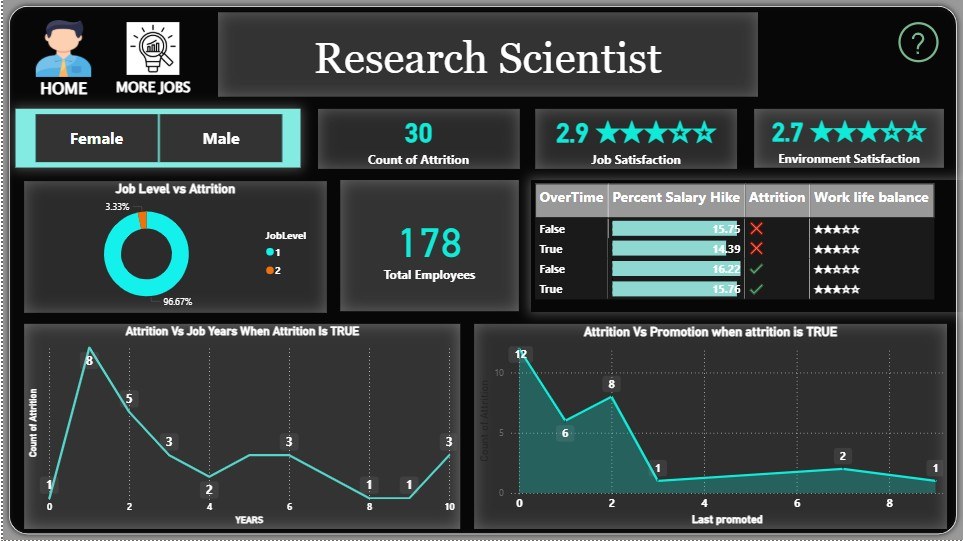

The page's visual inventory and layout, read from the dashboard file:
{"tool":"powerbi","page":{"name":"Drill Through","canvas":[1280,720],"ordinal":1},"visuals":[{"type":"shape","box":[0,0,1279.7,720.4],"z":0},{"type":"group","id":"g1","title":"Group 1","box":[15.6,0,1264,720],"z":1000},{"type":"card","fields":{"Values":["Min(HR_EMPLOYEE (2).JobRole)"]},"box":[287.6,16,720,112],"z":1000,"group":"g1"},{"type":"card","title":"star card e","fields":{"Values":["CountNonNull(HR_EMPLOYEE (2).Attrition)"]},"box":[420.1,145.2,268.5,79.6],"z":2000},{"type":"card","title":"star card e","fields":{"Values":["HR_EMPLOYEE (2).Environment Satisfaction Stars"]},"box":[709.8,145.2,268.5,79.6],"z":2000,"group":"g1"},{"type":"card","title":"star card j","fields":{"Values":["HR_EMPLOYEE (2).Job Satisfaction Stars"]},"box":[1002.7,145.2,253.1,78.4],"z":5000,"group":"g1"},{"type":"image","title":"MAIN DASHBOARD","box":[16,16,128,96],"z":6000},{"type":"lineChart","title":"Attrition Vs Job Years When Attrition Is TRUE","fields":{"Category":["True_attrition_table.YearsAtCompany"],"Y":["CountNonNull(HR_EMPLOYEE (2).Attrition)"]},"box":[28.4,431.2,581.8,273.6],"z":6000,"group":"g1"},{"type":"textbox","box":[16,96,128,48],"z":7000},{"type":"areaChart","title":"Attrition Vs Promotion when attrition is TRUE","fields":{"Category":["HR_EMPLOYEE (3).YearsSinceLastPromotion"],"Y":["CountNonNull(HR_EMPLOYEE (2).Attrition)"]},"box":[629.3,431.2,630.3,273.6],"z":7000,"group":"g1"},{"type":"image","box":[160,16,80,96],"z":8000},{"type":"tableEx","fields":{"Values":["HR_EMPLOYEE (2).OverTime","Avg(HR_EMPLOYEE (2).PercentSalaryHike)","HR_EMPLOYEE (2).Attrition","HR_EMPLOYEE (2).Average of WorkLifeBalance star rating"]},"box":[703.6,240,576,176],"z":9000,"group":"g1"},{"type":"donutChart","title":"Job Level vs Attrition","fields":{"Category":["HR_EMPLOYEE (2).JobLevel"],"Y":["CountNonNull(HR_EMPLOYEE (2).Attrition)"]},"box":[28.3,241.7,403.3,175],"z":9000},{"type":"textbox","box":[126.4,97,147.2,48.5],"z":10000},{"type":"card","fields":{"Values":["HR_EMPLOYEE (2).total employees"]},"box":[451,240.7,237.2,174.9],"z":10000,"group":"g1"},{"type":"slicer","fields":{"Values":["HR_EMPLOYEE (2).Gender"]},"box":[16.9,145,380,78.3],"z":11000,"group":"g1"},{"type":"actionButton","box":[1188.3,23.3,68.3,78.3],"z":15001}]}

Visuals, with their boxes in screenshot pixels (x1, y1, x2, y2), scaled from the page's 1280x720 canvas onto the 963x541 screenshot:
shape: pyautogui.locateOnScreen(0, 0, 962, 540)
"Group 1" group: pyautogui.locateOnScreen(12, 0, 962, 540)
card - Min(HR_EMPLOYEE (2).JobRole): pyautogui.locateOnScreen(216, 12, 758, 96)
"star card e" card: pyautogui.locateOnScreen(316, 109, 518, 169)
"star card e" card: pyautogui.locateOnScreen(534, 109, 736, 169)
"star card j" card: pyautogui.locateOnScreen(754, 109, 945, 168)
"MAIN DASHBOARD" image: pyautogui.locateOnScreen(12, 12, 108, 84)
"Attrition Vs Job Years When Attrition Is TRUE" lineChart: pyautogui.locateOnScreen(21, 324, 459, 530)
textbox: pyautogui.locateOnScreen(12, 72, 108, 108)
"Attrition Vs Promotion when attrition is TRUE" areaChart: pyautogui.locateOnScreen(473, 324, 948, 530)
image: pyautogui.locateOnScreen(120, 12, 181, 84)
tableEx - HR_EMPLOYEE (2).OverTime x Avg(HR_EMPLOYEE (2).PercentSalaryHike): pyautogui.locateOnScreen(529, 180, 962, 313)
"Job Level vs Attrition" donutChart: pyautogui.locateOnScreen(21, 182, 325, 313)
textbox: pyautogui.locateOnScreen(95, 73, 206, 109)
card - HR_EMPLOYEE (2).total employees: pyautogui.locateOnScreen(339, 181, 518, 312)
slicer - HR_EMPLOYEE (2).Gender: pyautogui.locateOnScreen(13, 109, 299, 168)
actionButton: pyautogui.locateOnScreen(894, 18, 945, 76)
